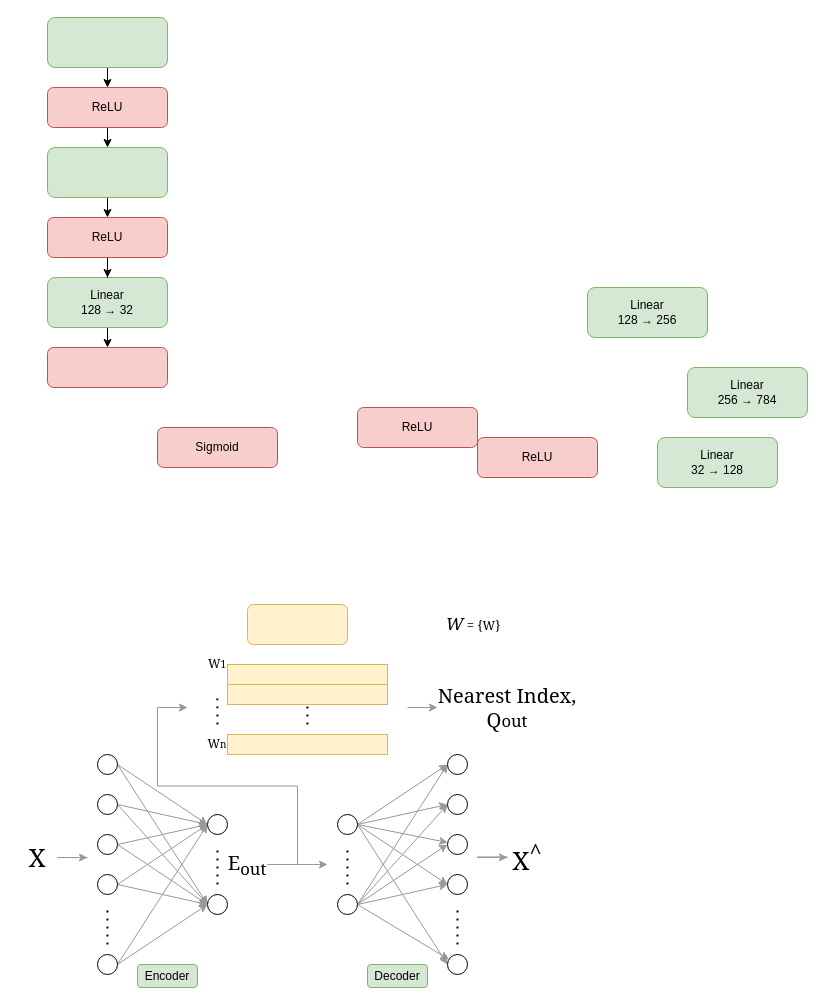
This 825x1005 diagram has some shape labels left out. Each missing label, with the box of its shape:
Linear 256 → 128: (46, 146, 168, 198)
Linear 784 → 256: (46, 16, 168, 68)
Quantizing Weight: (246, 604, 348, 644)
Tanh: (46, 346, 168, 388)
